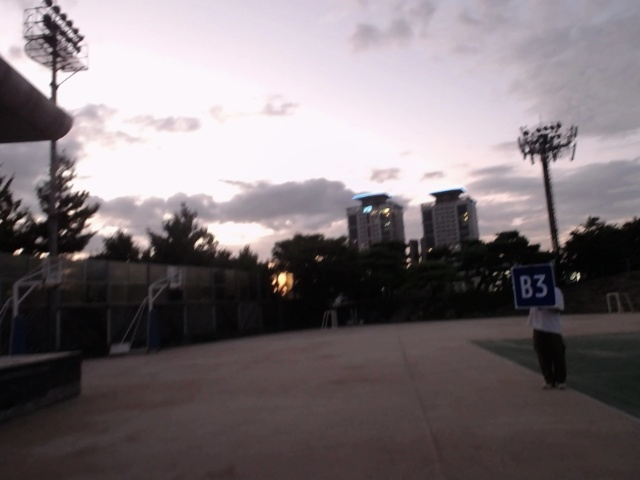delivery_b3: (511, 266, 556, 308)
